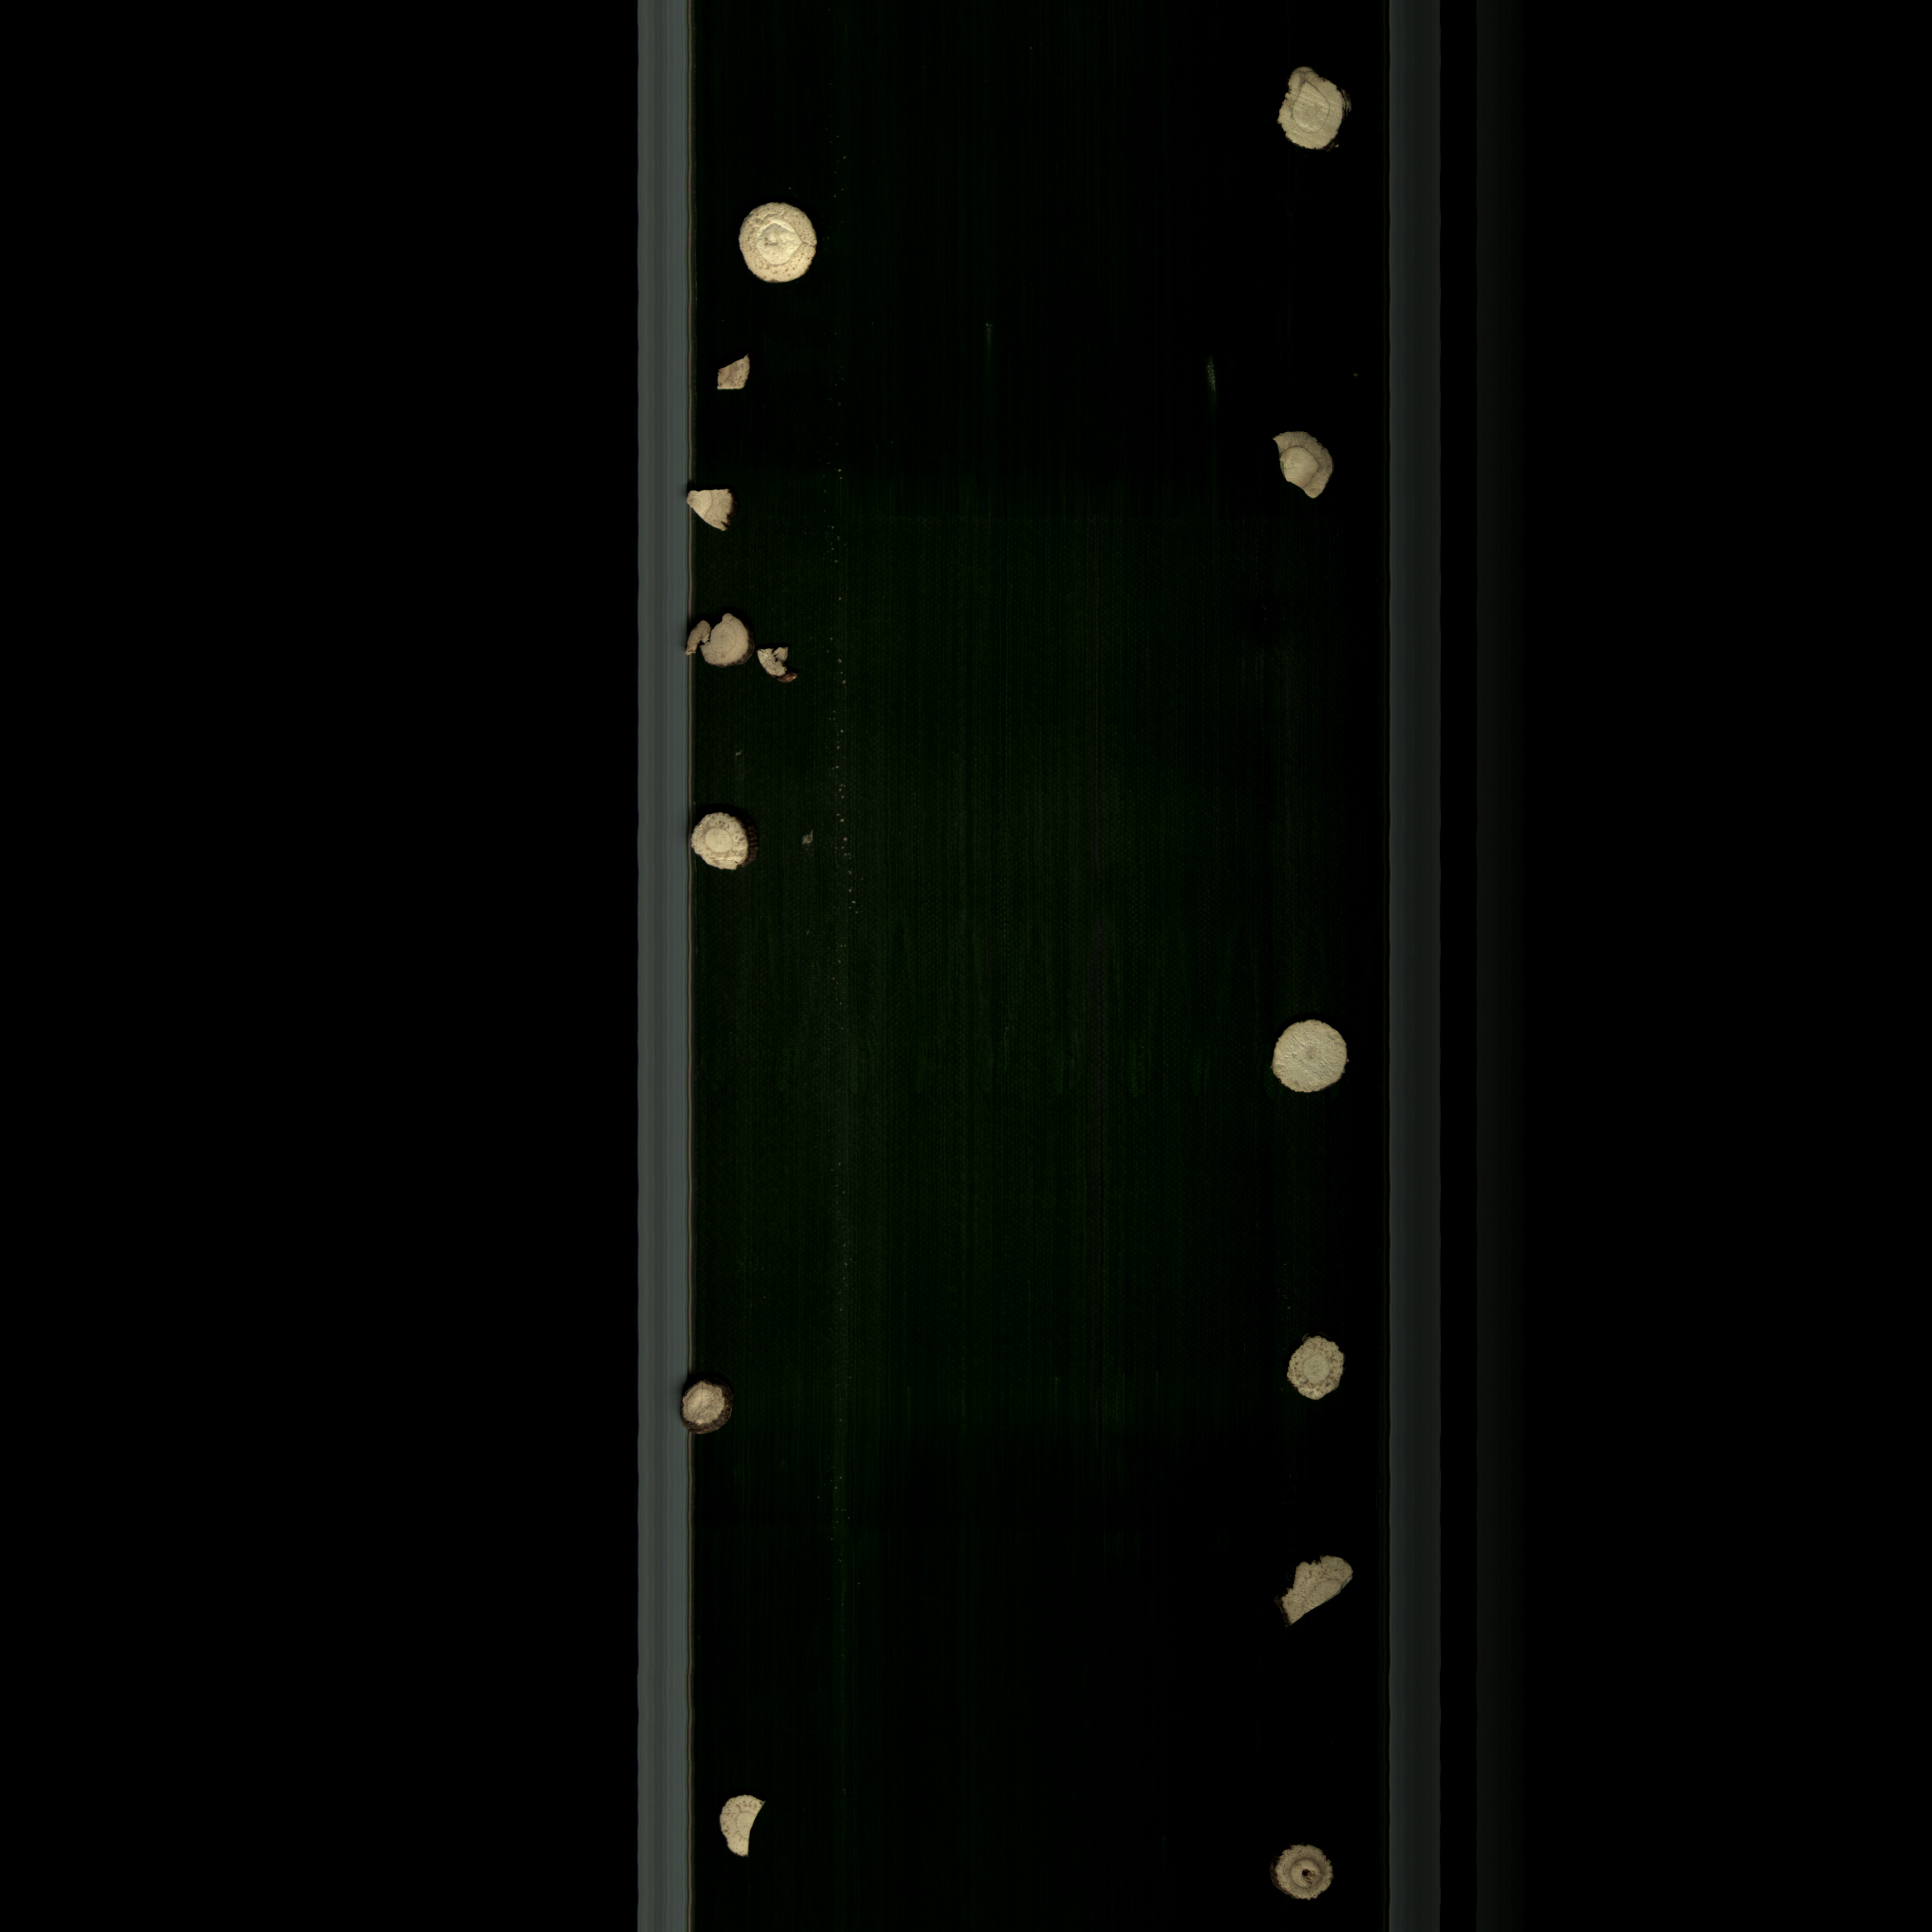bark: (671, 1375, 743, 1447), (752, 640, 814, 695)
debris: (1261, 1550, 1369, 1629), (709, 1785, 770, 1877)
distortion: (1261, 55, 1361, 163), (683, 598, 748, 679)
dreg: (683, 478, 743, 540), (709, 352, 759, 400), (784, 821, 821, 853)
moldy: (1261, 421, 1345, 515), (1284, 1323, 1359, 1419), (678, 800, 763, 883), (1267, 1831, 1339, 1909)
